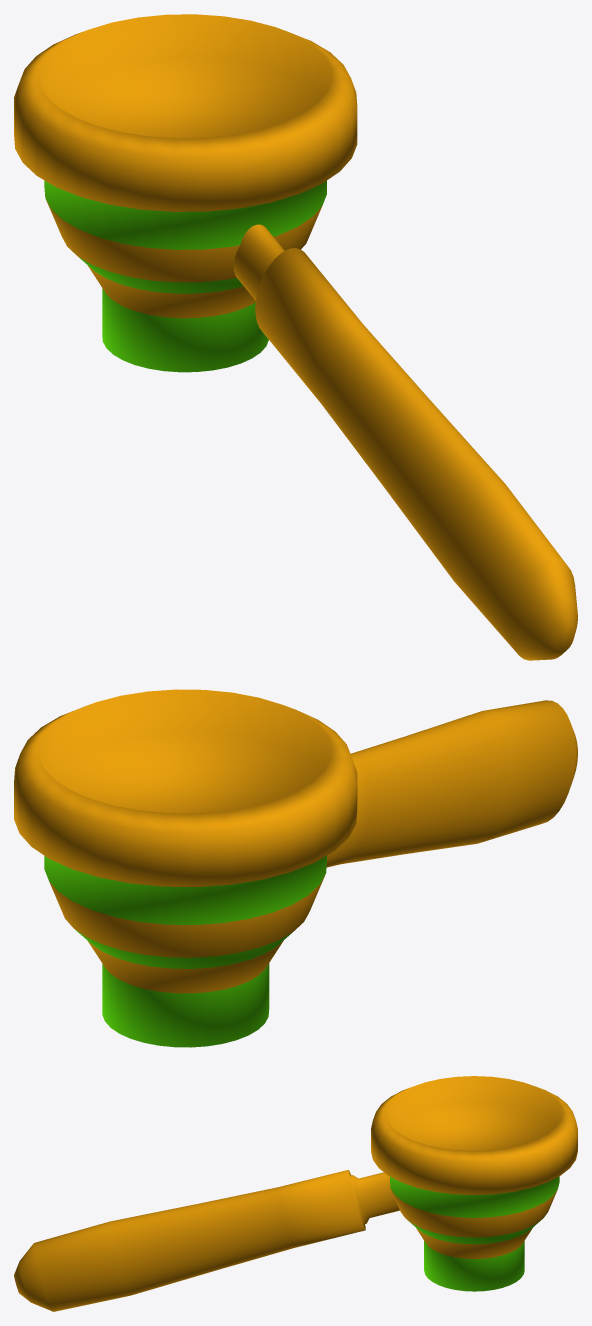
Rendered from kahveD+Âk+-c+-.fbx.
The picture shows the model from 3 angles, top to bottom: view 1: azimuth 30°, elevation 25°; view 2: azimuth 150°, elevation 25°; view 3: azimuth 270°, elevation 25°; orthographic projection. The views are drawn at different scales.
Parts seen in each view (by area): view 1: tabak, sap; view 2: tabak, sap; view 3: tabak, sap.
Boxes of the visible parts, left/top/right/bottom form: tabak: left=14, top=14, right=357, bottom=372; sap: left=233, top=224, right=577, bottom=660; tabak: left=14, top=689, right=357, bottom=1047; sap: left=326, top=700, right=577, bottom=867; tabak: left=371, top=1076, right=577, bottom=1291; sap: left=14, top=1170, right=399, bottom=1311.
Bounding box in the file's own units: 411 × 433 × 1121.
